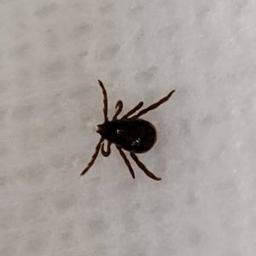Rhipicephalus sanguineus: (77, 80, 176, 180)
